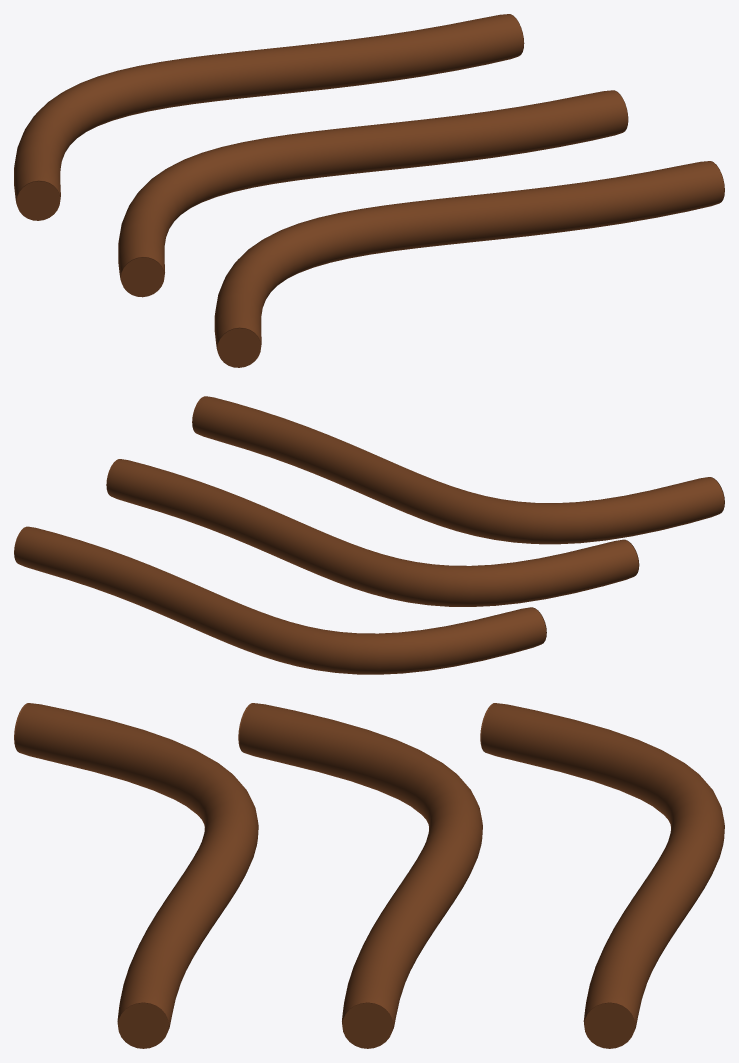
File: Handle3.fbx
3 renders of one model, top to bottom at view 1: azimuth 30°, elevation 25°; view 2: azimuth 150°, elevation 25°; view 3: azimuth 270°, elevation 25°, orthographic. The views are drawn at different scales.
Parts seen in each view (by area): view 1: BezierCurve.001, BezierCurve, BezierCurve.002; view 2: BezierCurve, BezierCurve.002, BezierCurve.001; view 3: BezierCurve.001, BezierCurve.002, BezierCurve.
Part boxes in pixels (<box>): BezierCurve.001: <box>214,161,724,367</box>; BezierCurve: <box>118,90,628,297</box>; BezierCurve.002: <box>14,14,524,220</box>; BezierCurve: <box>106,459,639,606</box>; BezierCurve.002: <box>14,526,546,674</box>; BezierCurve.001: <box>192,396,724,544</box>; BezierCurve.001: <box>14,703,258,1048</box>; BezierCurve.002: <box>480,703,724,1048</box>; BezierCurve: <box>238,703,482,1048</box>.
Size of the model in its own units: 205 by 15.29 by 200.
